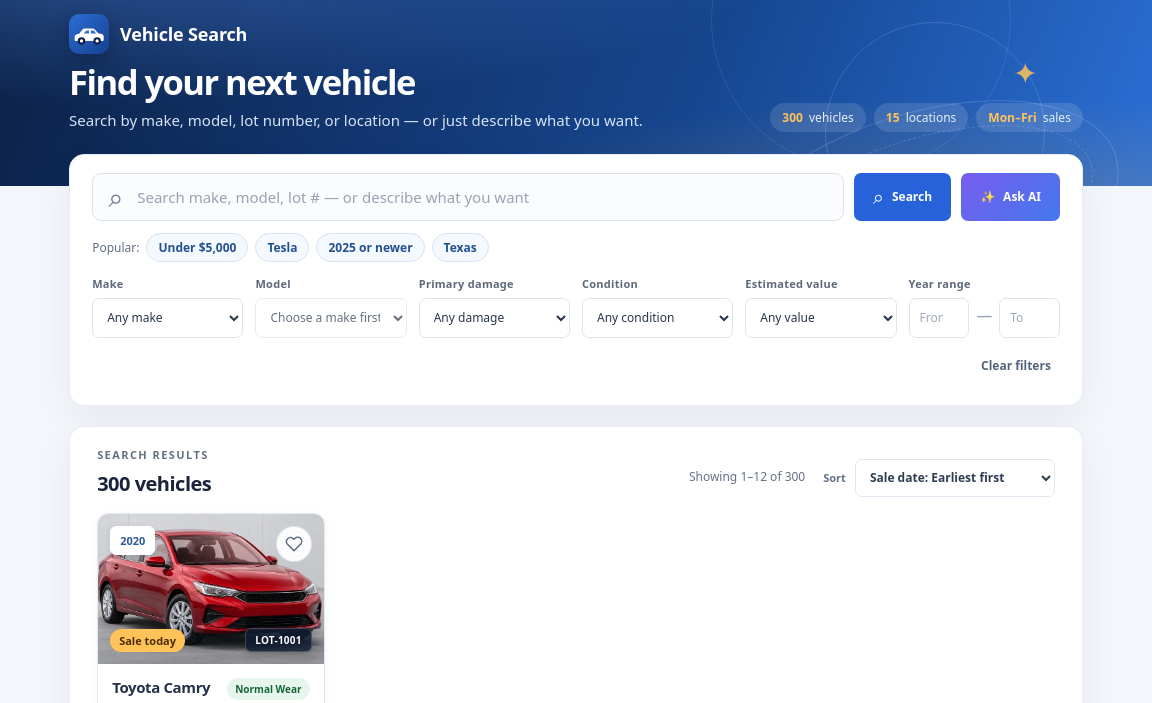
Scenario: vehicle search interactions › submits a text search and displays matching results
Expected: the heading "300 vehicles" is shown, [97,470,211,497]
Type "Honda" into the search field named "search by vehicle".
click(482, 197); type("Honda")  # box [135,186,828,208]
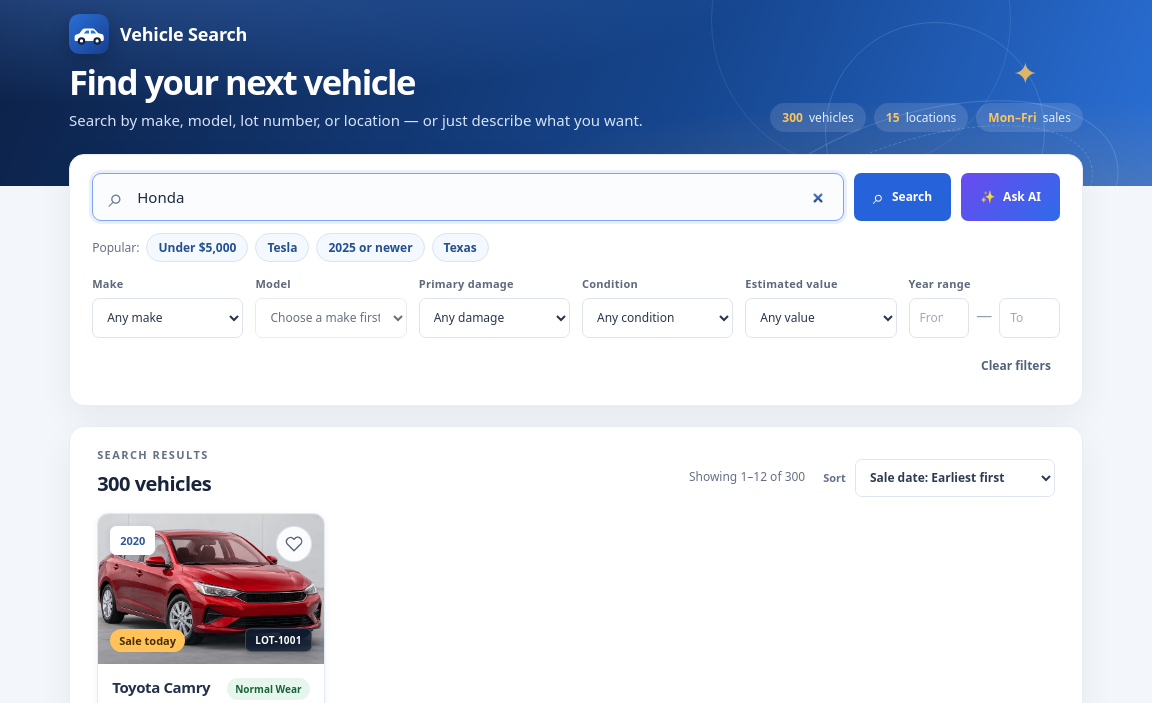
Click the button with aria-label "Search vehicles".
click(902, 197)  # box [854,173,951,221]
(page scrolled)
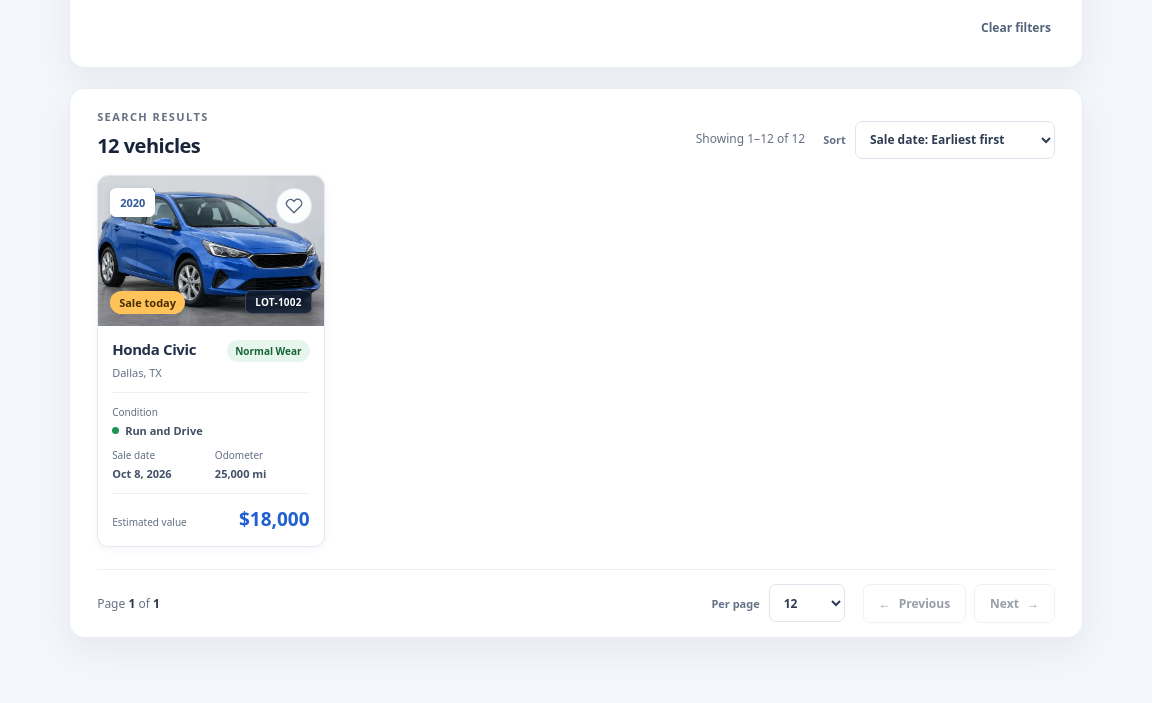
Result: the heading "12 vehicles" is shown at [97,132,209,159]
Result: the element named "2020 Honda Civic" is shown at [97,175,324,546]
